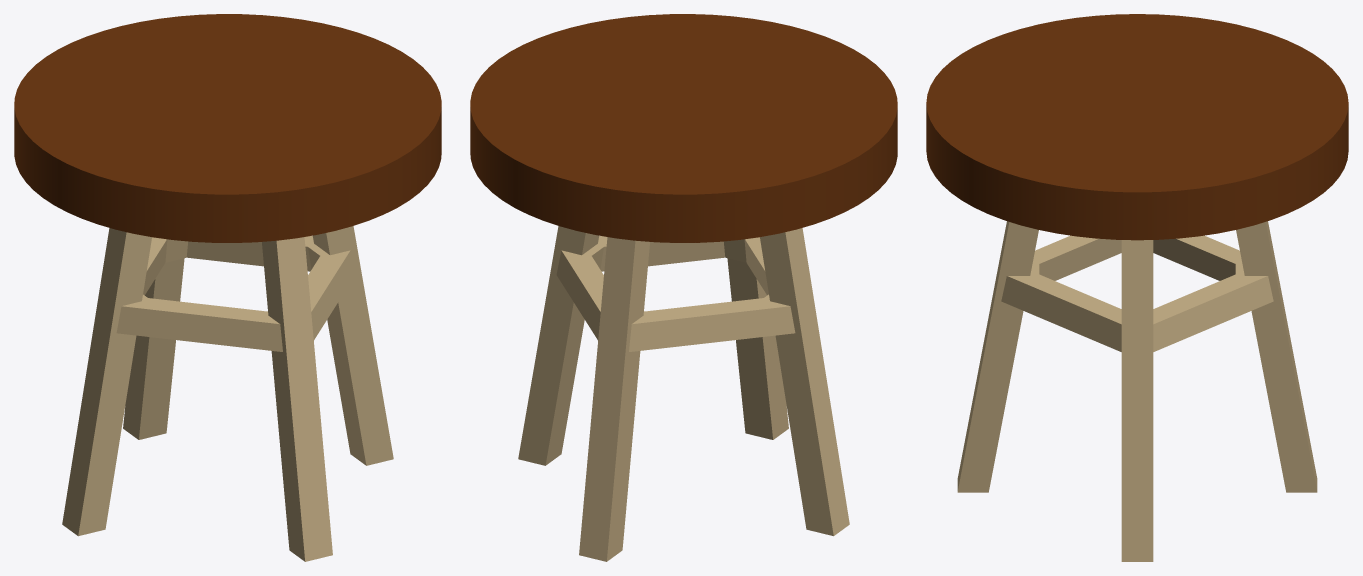
Rendered from chair1_wood.glb.
3 renders of one model, left to right at view 1: azimuth 30°, elevation 25°; view 2: azimuth 150°, elevation 25°; view 3: azimuth 270°, elevation 25°, orthographic.
Parts seen in each view (by area): view 1: Cylinder002; view 2: Cylinder002; view 3: Cylinder002.
Boxes of the visible parts, x1=… form: Cylinder002: x1=14, y1=14, x2=441, y2=561; Cylinder002: x1=470, y1=14, x2=897, y2=561; Cylinder002: x1=926, y1=14, x2=1348, y2=561.
Size of the model in its own units: 0.08 by 0.08 by 0.08.
Materials: 1 (1 with a texture image).
